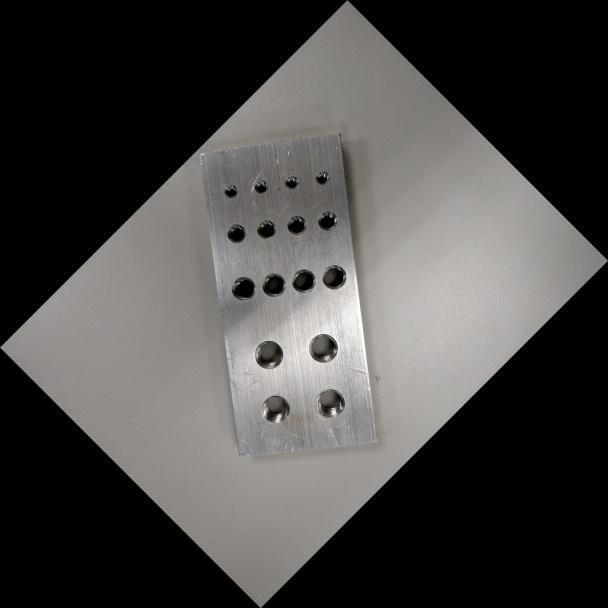hole: (300, 326, 344, 370), (247, 333, 290, 376), (308, 382, 350, 424), (254, 388, 296, 430), (316, 258, 352, 295), (225, 270, 261, 306), (285, 262, 321, 298), (255, 267, 291, 302), (312, 206, 342, 235), (222, 219, 250, 247), (282, 210, 310, 238), (252, 215, 279, 243), (311, 166, 333, 188), (280, 171, 301, 192), (251, 176, 271, 197), (220, 181, 240, 201)
